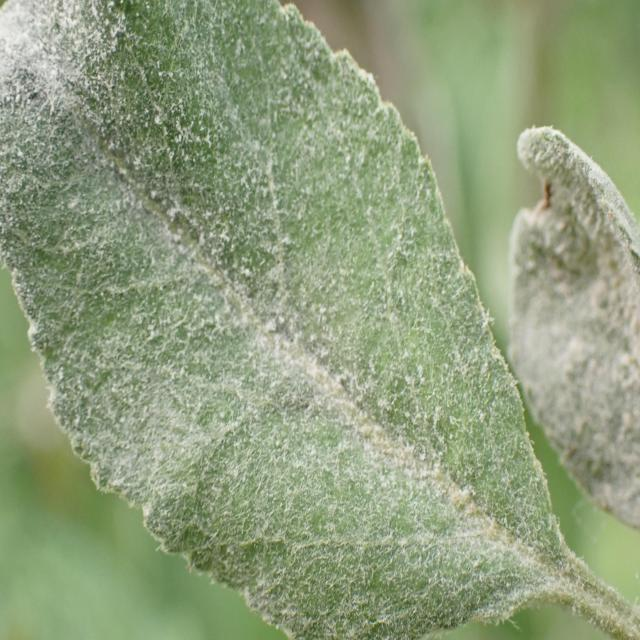Powdery_mildew: (0, 0, 575, 640), (509, 106, 640, 554)
